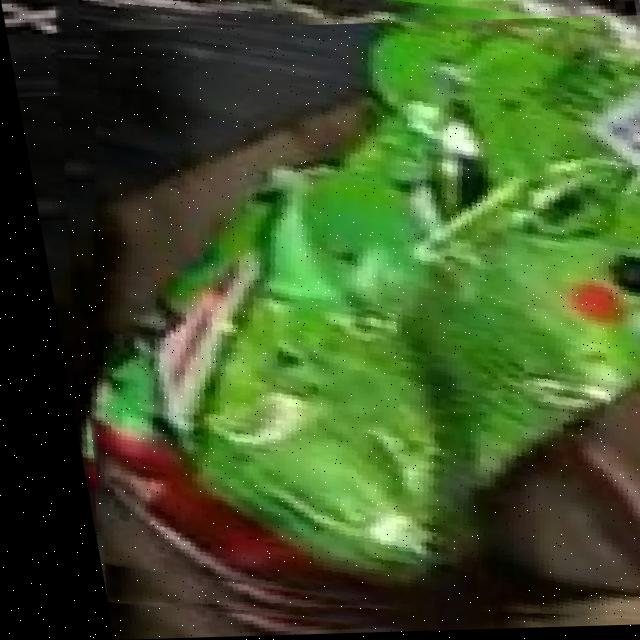can: (72, 20, 640, 616)
